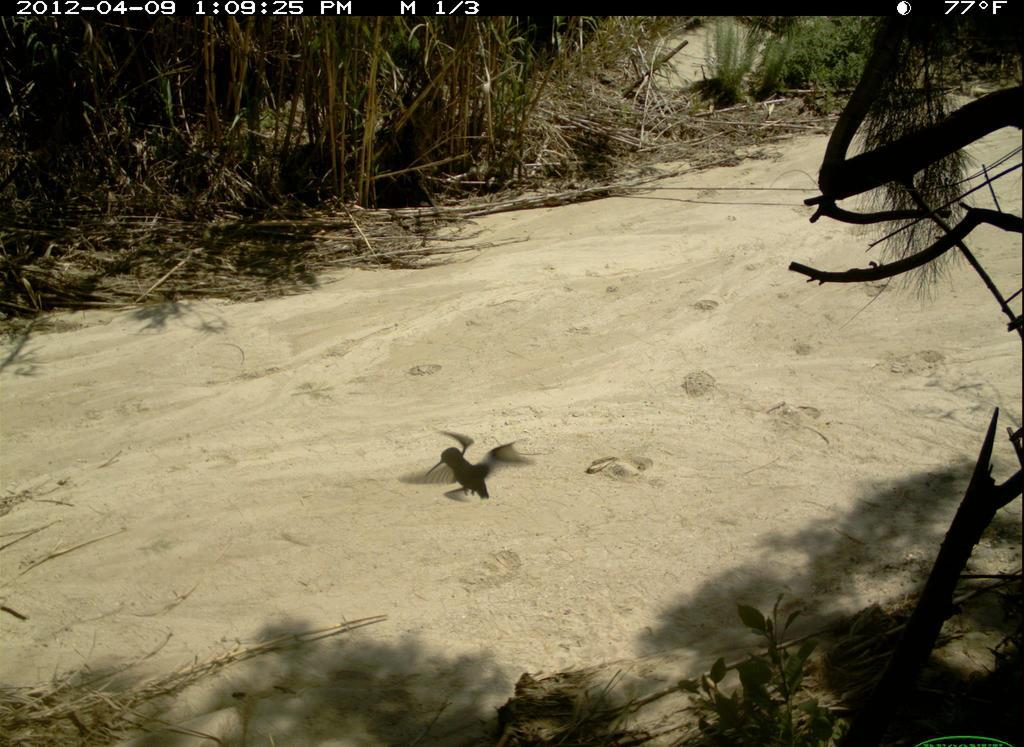bird: (418, 425, 536, 504)
